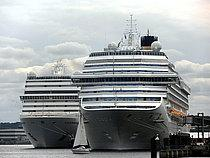Ship: (67, 35, 195, 152), (15, 56, 89, 151)
